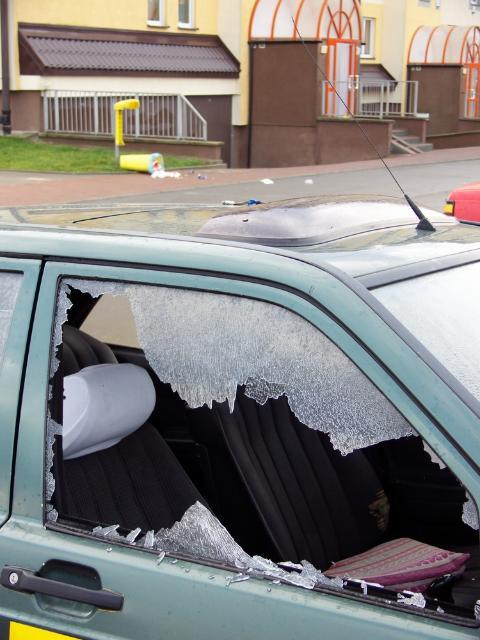glass shatter: (46, 275, 480, 626)
